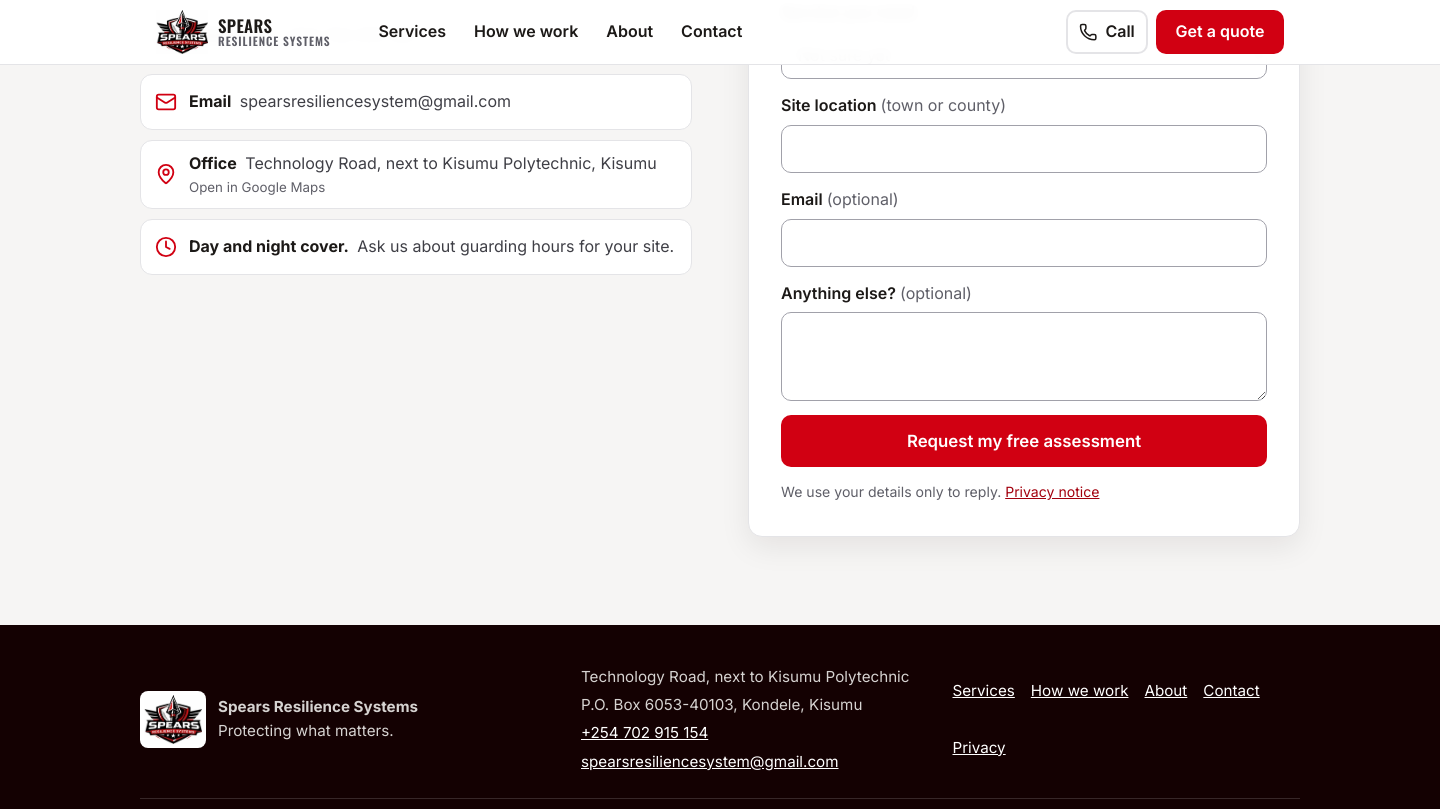
it: the quote form asks for a name and phone before sending
(page scrolled)
Click the button "Request my free assessment": click(1024, 441) x1=781 y1=415 x2=1267 y2=467
(page scrolled)
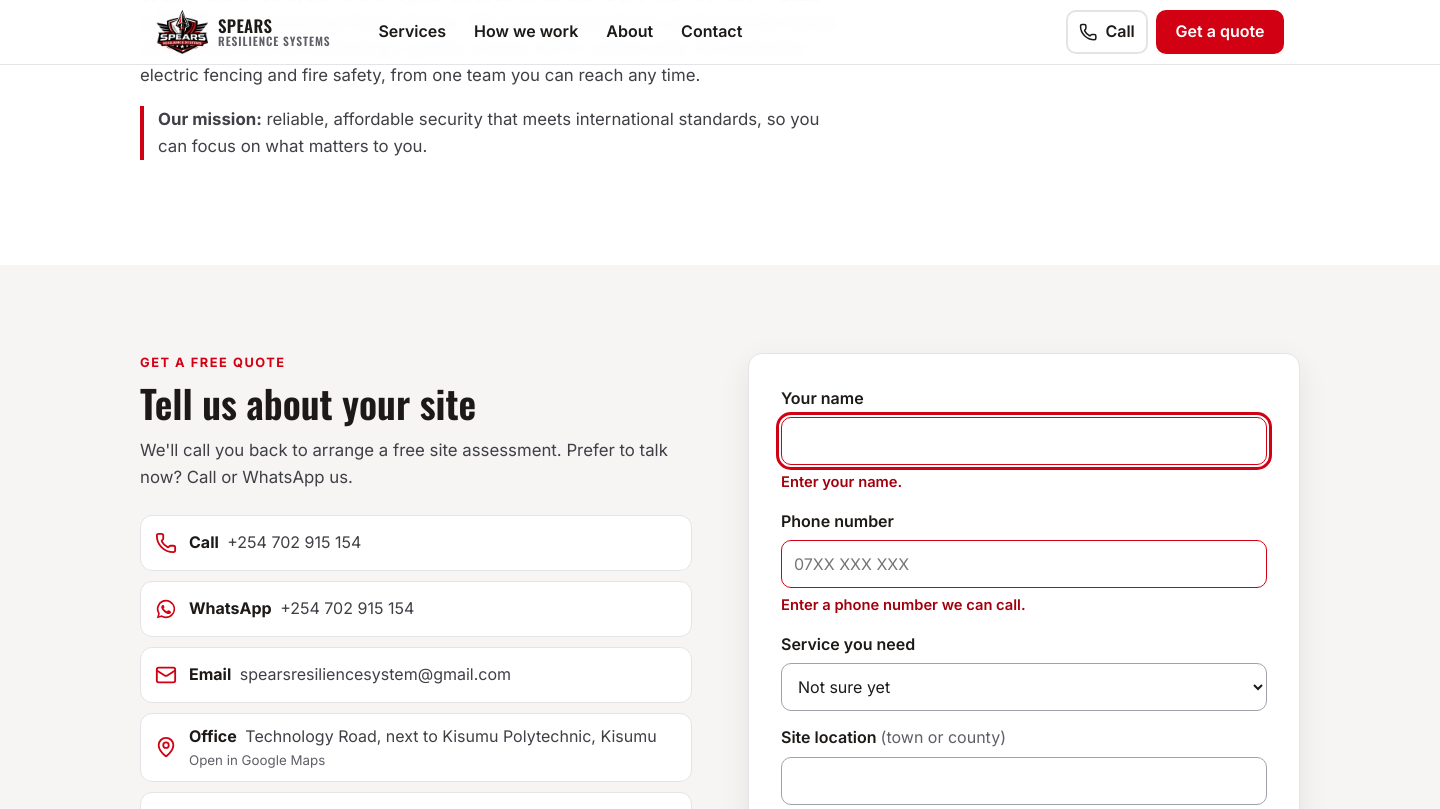
Expected: the text "Enter your name." is shown, x1=781 y1=473 x2=902 y2=491
Expected: the text "Enter a phone number we can call." is shown, x1=781 y1=596 x2=1026 y2=614
